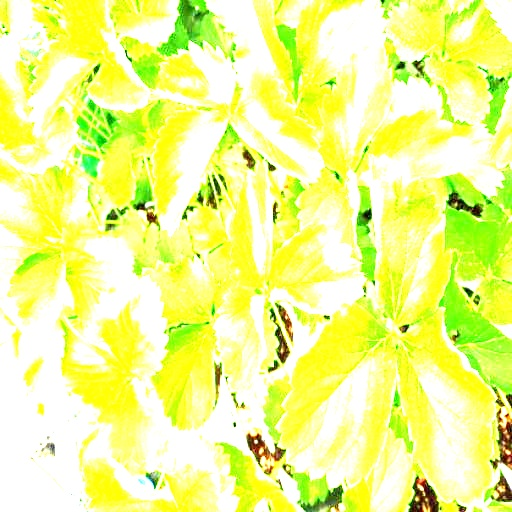Powdery Mildew Leaf: (273, 300, 398, 490), (395, 306, 502, 510), (369, 152, 453, 325), (267, 223, 367, 315), (294, 167, 363, 262), (226, 157, 274, 293), (86, 28, 151, 113)
